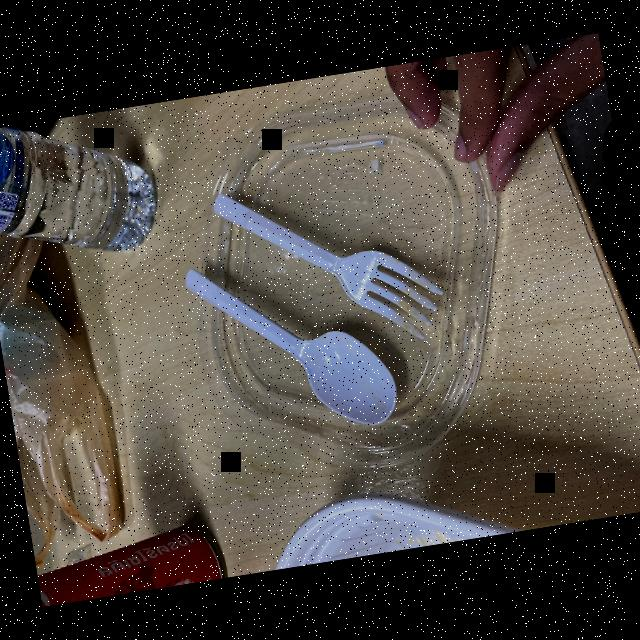plastic_cultery: (204, 144, 471, 386), (178, 228, 414, 464)
